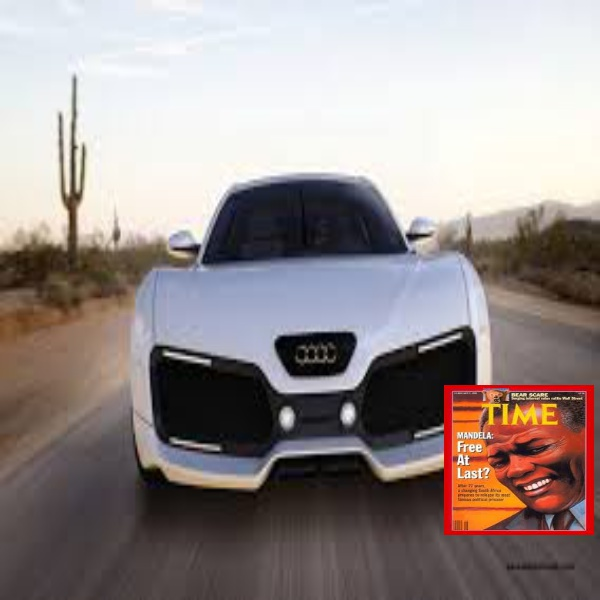time_cover: (435, 375, 591, 537)
